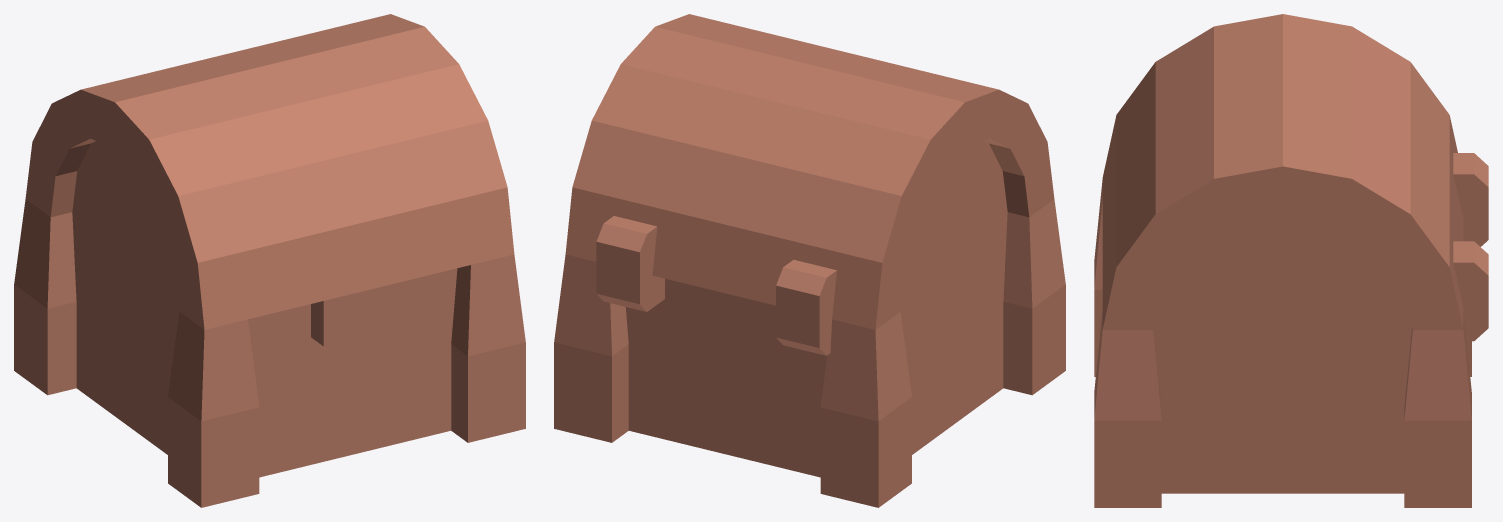
The model's file is chest.obj.
3 views of the same model, side by side, from view 1: azimuth 30°, elevation 25°; view 2: azimuth 150°, elevation 25°; view 3: azimuth 270°, elevation 25° (orthographic).
Bounding box in the file's own units: 0.2604 × 0.2572 × 0.272.
